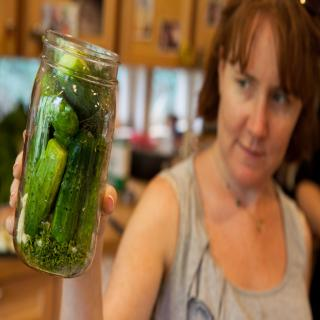Cucumber: (24, 49, 113, 265), (49, 128, 97, 246)
